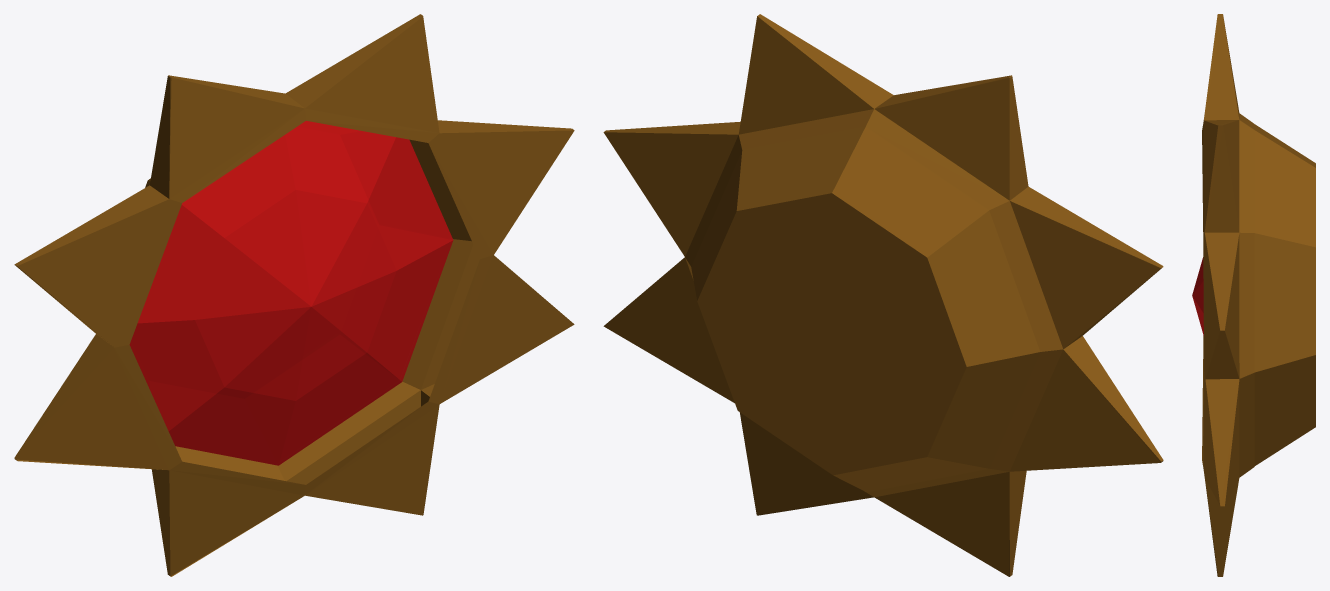
File: gem.FBX
3 views of the same model, side by side, from view 1: azimuth 30°, elevation 25°; view 2: azimuth 150°, elevation 25°; view 3: azimuth 270°, elevation 25° (orthographic). The views are drawn at different scales.
Parts seen in each view (by area): view 1: Box001, Sphere002; view 2: Box001; view 3: Box001, Sphere002.
Part boxes in pixels (x1,y1,x2,y2): Box001: (14,14,574,576); Sphere002: (129,121,453,465); Box001: (603,14,1163,576); Box001: (1202,14,1315,576); Sphere002: (1192,257,1203,335).
Bounding box in the file's own units: 13.41 × 11.48 × 2.85.
